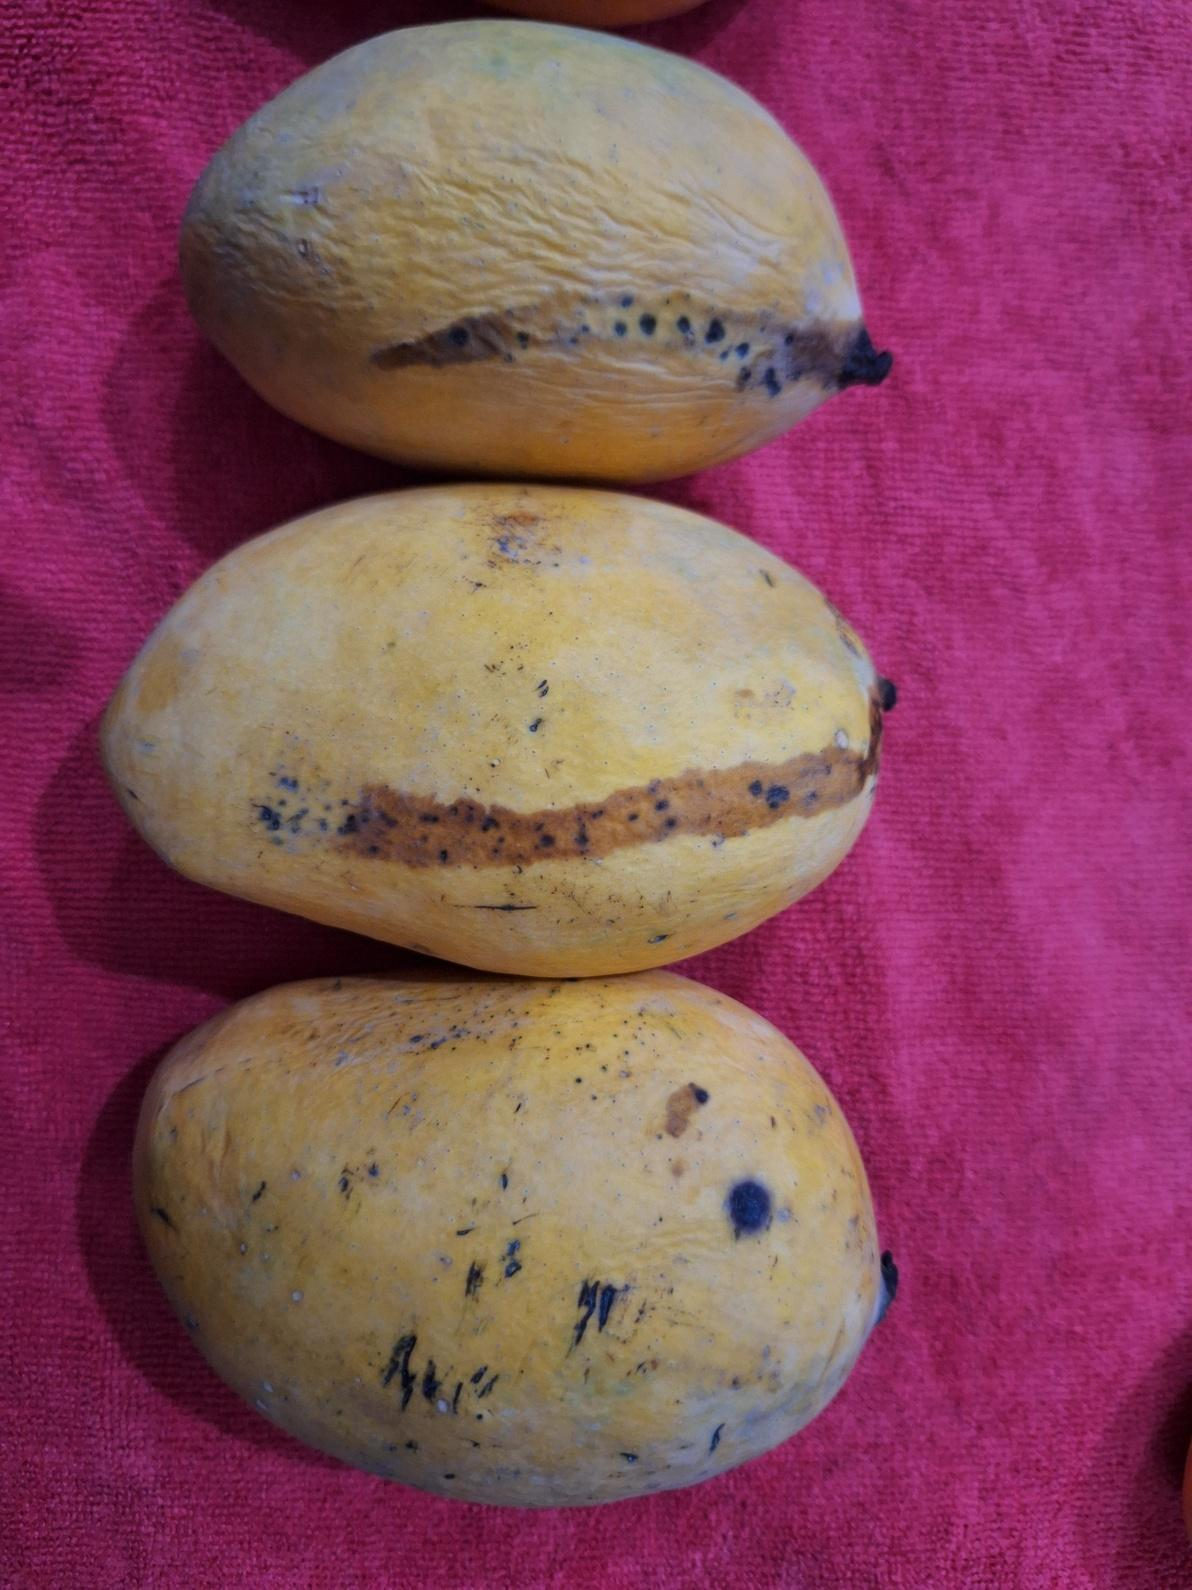mango: (130, 967, 898, 1509), (96, 480, 895, 979), (177, 14, 893, 485)
